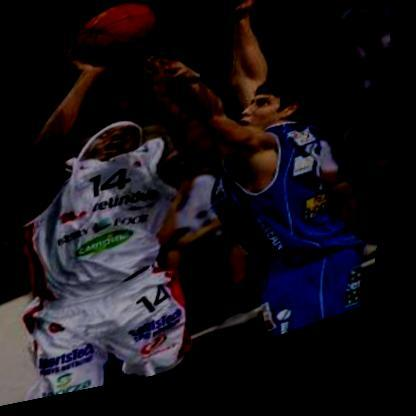basketball: (65, 0, 166, 86)
